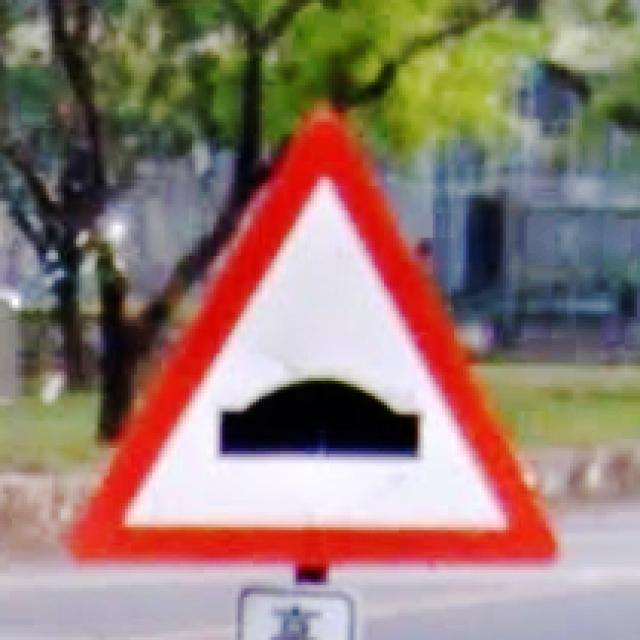hump: (64, 111, 560, 567)
